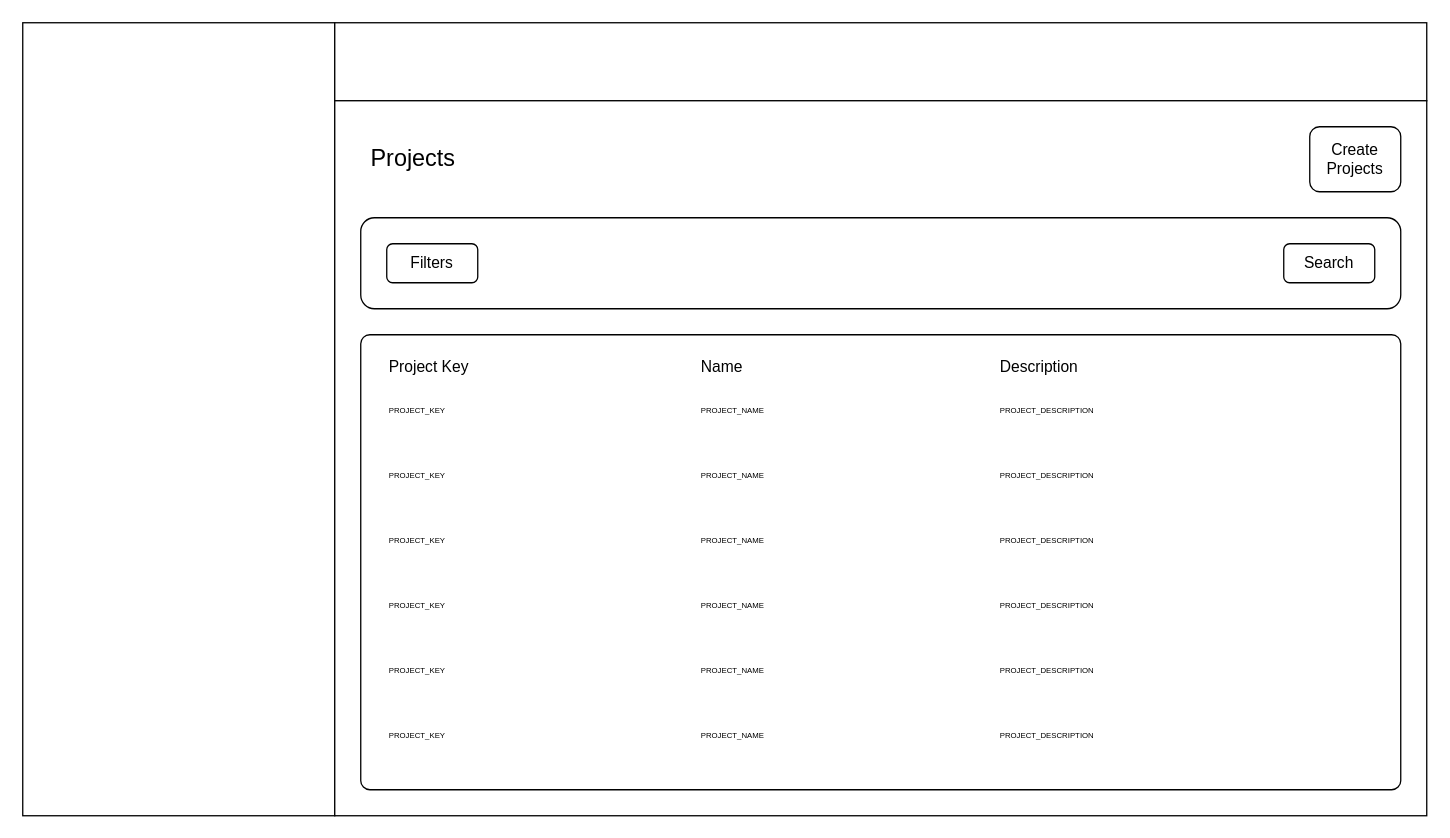
Image size: 1450x838. Some labels were removed from this diagram. Each missing label, with the centre of its shape:
"Navigation" belongs at point 880,61.
"Toolbar" belongs at point 178,418.
